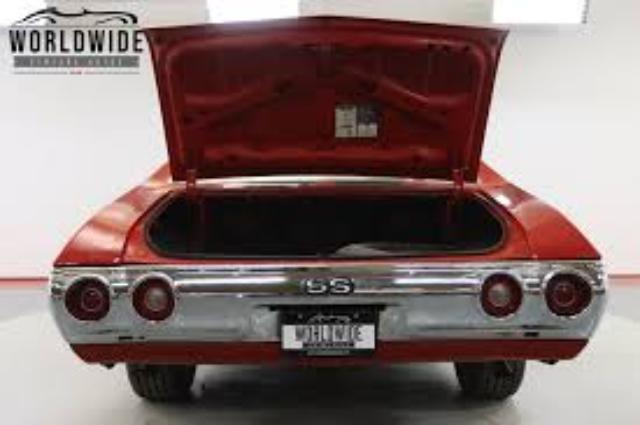chevelle-1972: (49, 16, 605, 403)
